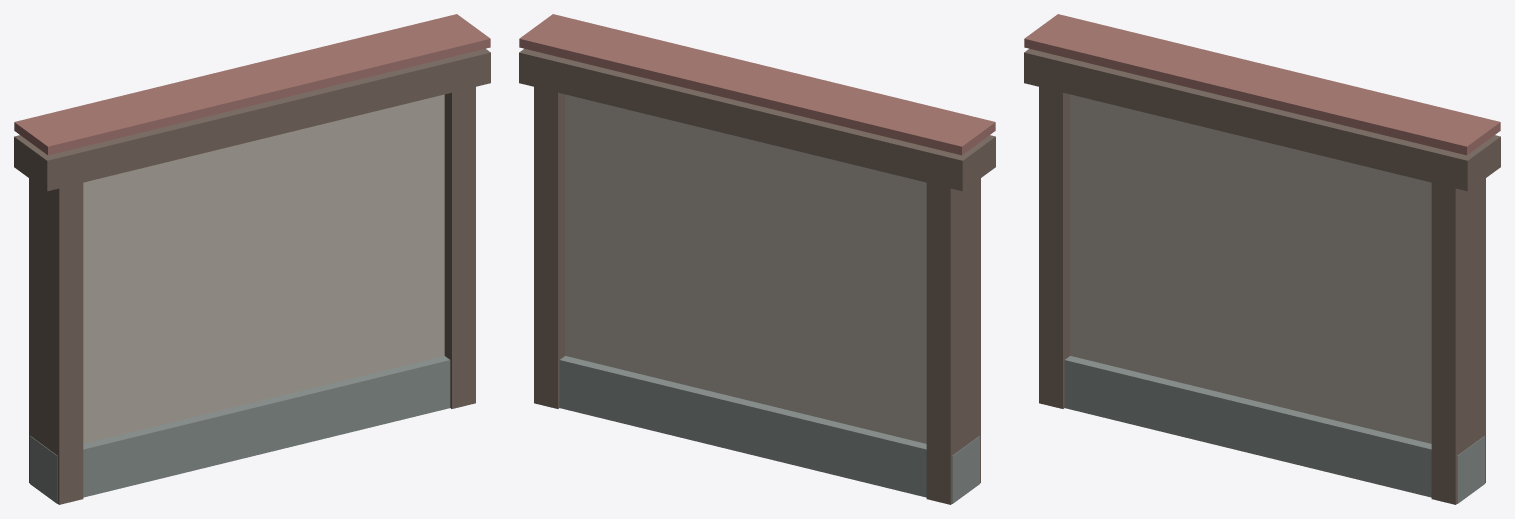
File: parede_madeira_laca.glb
3 renders of one model, left to right at view 1: azimuth 30°, elevation 25°; view 2: azimuth 150°, elevation 25°; view 3: azimuth 330°, elevation 25°, orthographic.
Visible parts, largest first — view 1: parede_madeira_laca_part_001, parede_madeira_laca_part_000, parede_madeira_laca_part_005, parede_madeira_laca_part_004, parede_madeira_laca_part_002, parede_madeira_laca_part_003; view 2: parede_madeira_laca_part_001, parede_madeira_laca_part_000, parede_madeira_laca_part_005, parede_madeira_laca_part_004, parede_madeira_laca_part_002, parede_madeira_laca_part_003; view 3: parede_madeira_laca_part_001, parede_madeira_laca_part_000, parede_madeira_laca_part_005, parede_madeira_laca_part_004, parede_madeira_laca_part_003, parede_madeira_laca_part_002.
Boxes of the visible parts, x1,y1,x2,y2 form: parede_madeira_laca_part_001: (83,94,444,443); parede_madeira_laca_part_000: (30,356,450,503); parede_madeira_laca_part_005: (14,14,490,155); parede_madeira_laca_part_004: (14,48,490,191); parede_madeira_laca_part_002: (29,178,83,504); parede_madeira_laca_part_003: (444,87,475,408); parede_madeira_laca_part_001: (565,94,926,443); parede_madeira_laca_part_000: (559,356,979,503); parede_madeira_laca_part_005: (519,14,995,155); parede_madeira_laca_part_004: (519,48,995,191); parede_madeira_laca_part_002: (926,178,980,504); parede_madeira_laca_part_003: (534,87,565,408); parede_madeira_laca_part_001: (1070,94,1431,443); parede_madeira_laca_part_000: (1064,356,1484,503); parede_madeira_laca_part_005: (1024,14,1500,155); parede_madeira_laca_part_004: (1024,48,1500,191); parede_madeira_laca_part_003: (1431,178,1485,504); parede_madeira_laca_part_002: (1039,87,1070,408).
Size of the model in its own units: 4.25 by 3.32 by 0.56.
